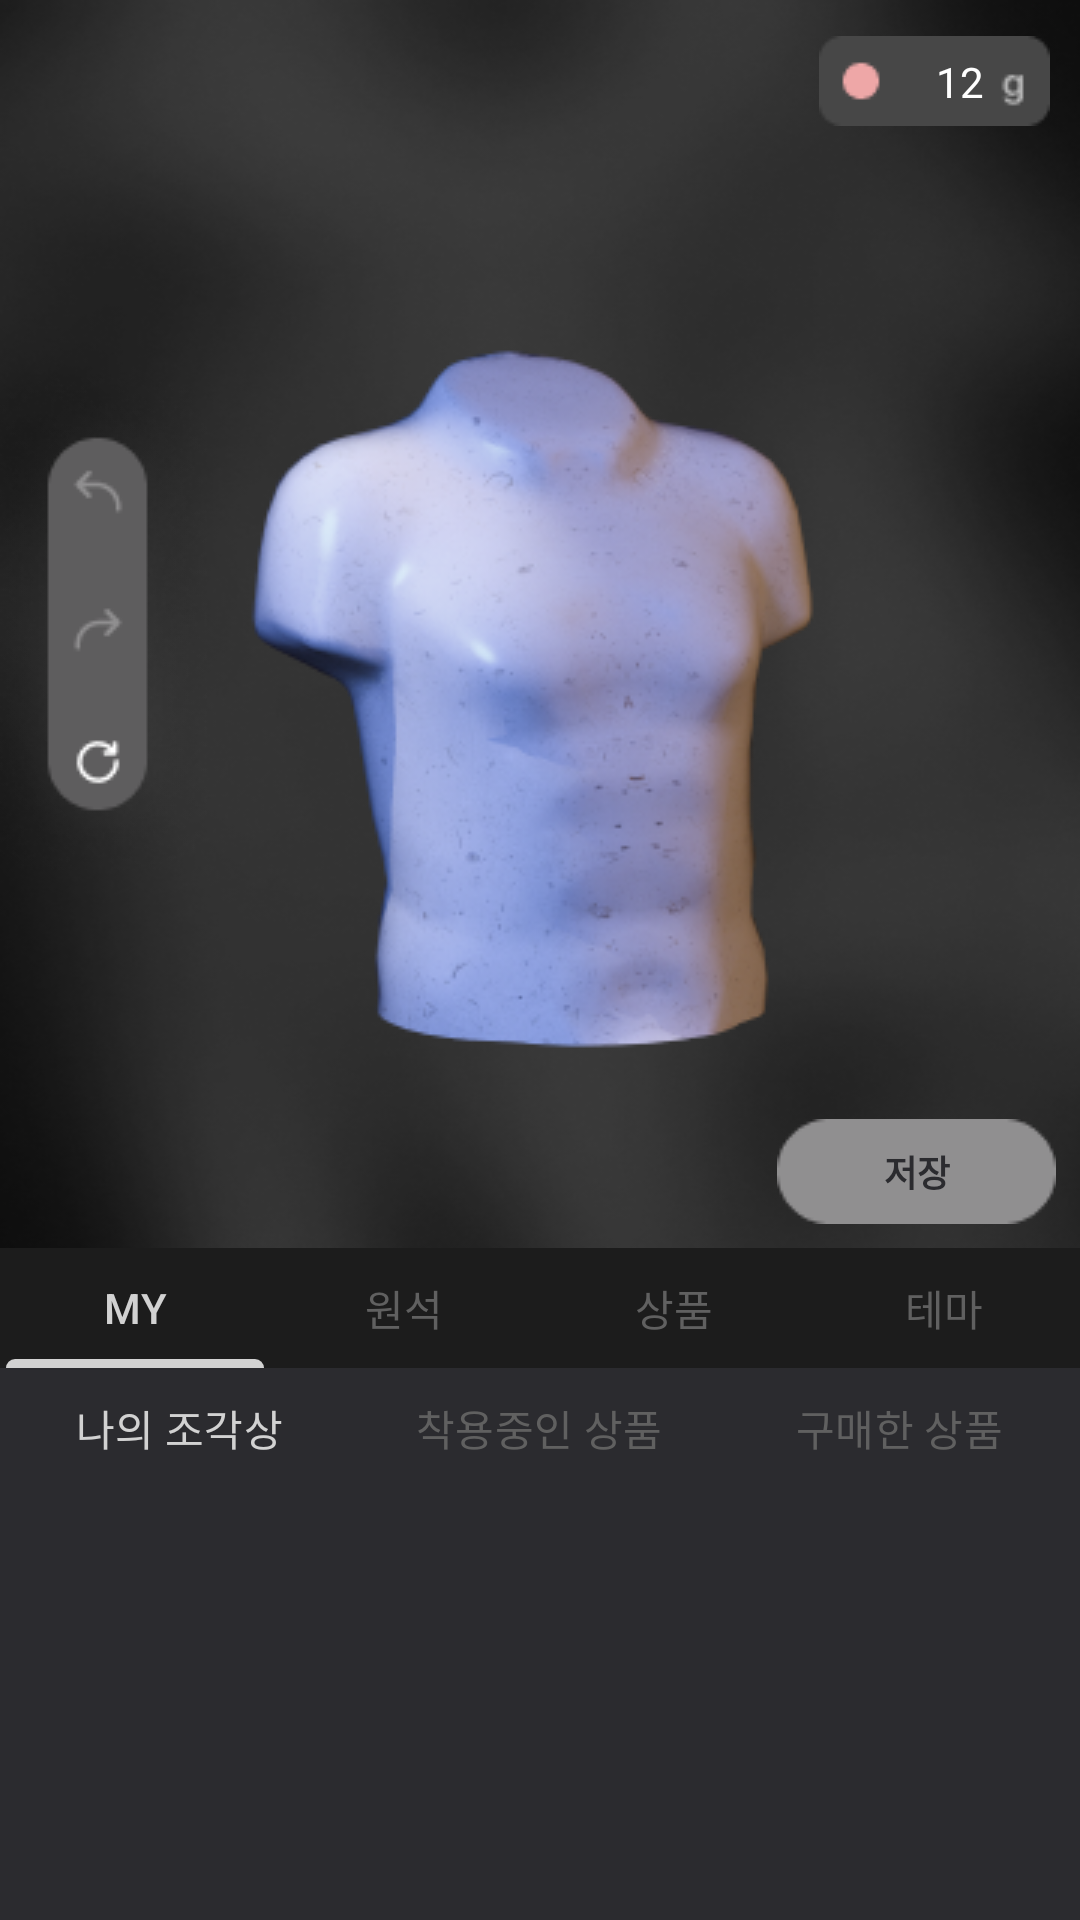

Where icons sit on this 1080px x 1920px app screen, as [left=x1, top=y1, right=x2, bottom=y2]:
store after: [left=75, top=609, right=120, bottom=649]
store before: [left=76, top=471, right=121, bottom=511]
store reset: [left=76, top=740, right=120, bottom=784]
